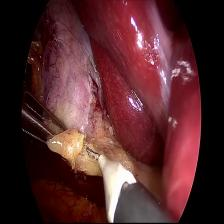Grasper: (19, 86, 71, 156)
Hook: (84, 145, 135, 212)
